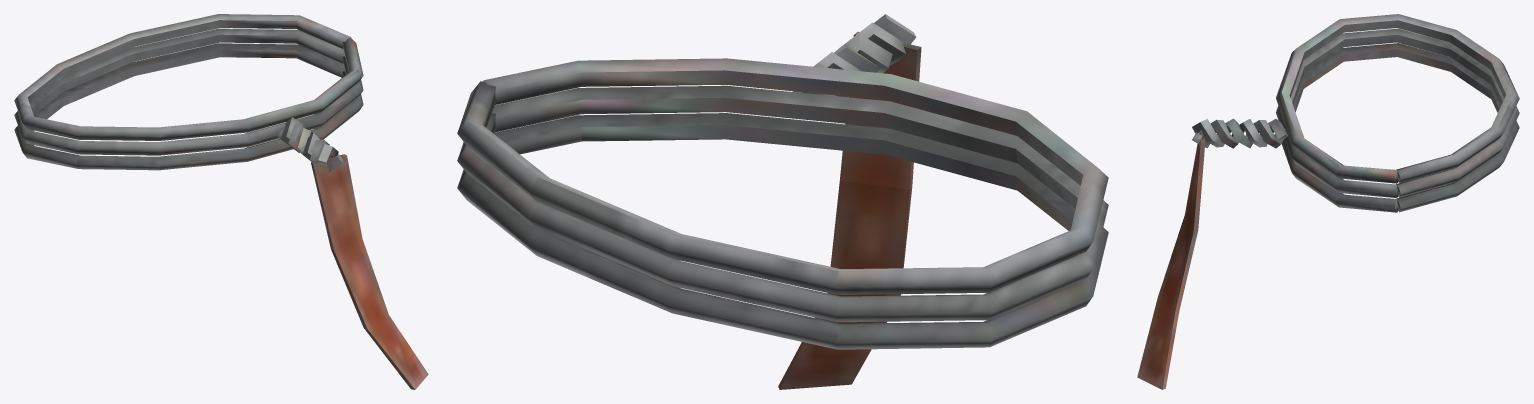
The model's file is pen_fence_tie.glb.
3 renders of one model, left to right at view 1: azimuth 30°, elevation 25°; view 2: azimuth 150°, elevation 25°; view 3: azimuth 270°, elevation 25°, orthographic. The views are drawn at different scales.
Parts seen in each view (by area): view 1: pen_fence_tie; view 2: pen_fence_tie; view 3: pen_fence_tie.
Boxes of the visible parts, box(x1,y1,x2,y2) form: pen_fence_tie: box(14, 14, 428, 389); pen_fence_tie: box(457, 14, 1108, 389); pen_fence_tie: box(1137, 14, 1519, 389).
Bounding box in the file's own units: 0.3325 × 0.2356 × 0.334.
Materials: 1 (1 with a texture image).
